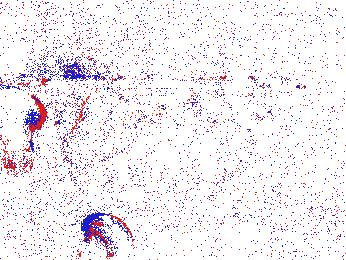flame jellyfish: (1, 81, 48, 178), (214, 207, 284, 260), (76, 212, 137, 260)
